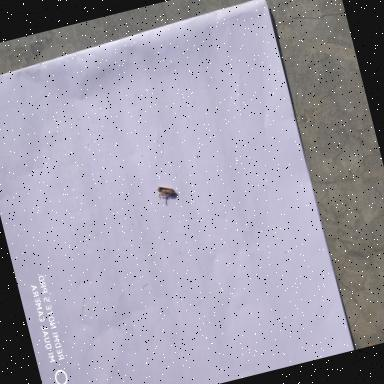pbw: (149, 174, 185, 210)
